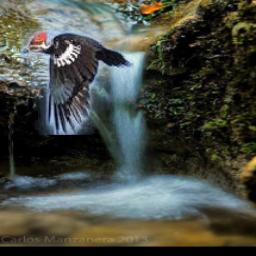Woodpecker: (21, 29, 135, 136)
